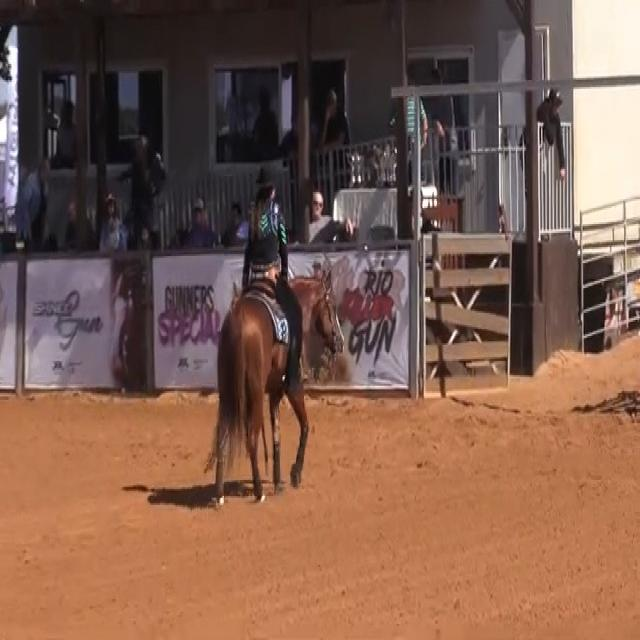horse: (206, 263, 343, 507)
